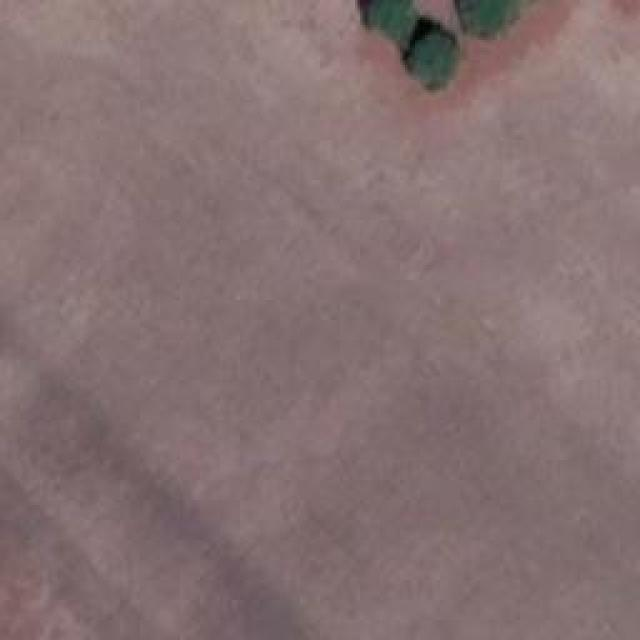Tree: (418, 28, 458, 83), (452, 0, 512, 32), (362, 0, 412, 32)
